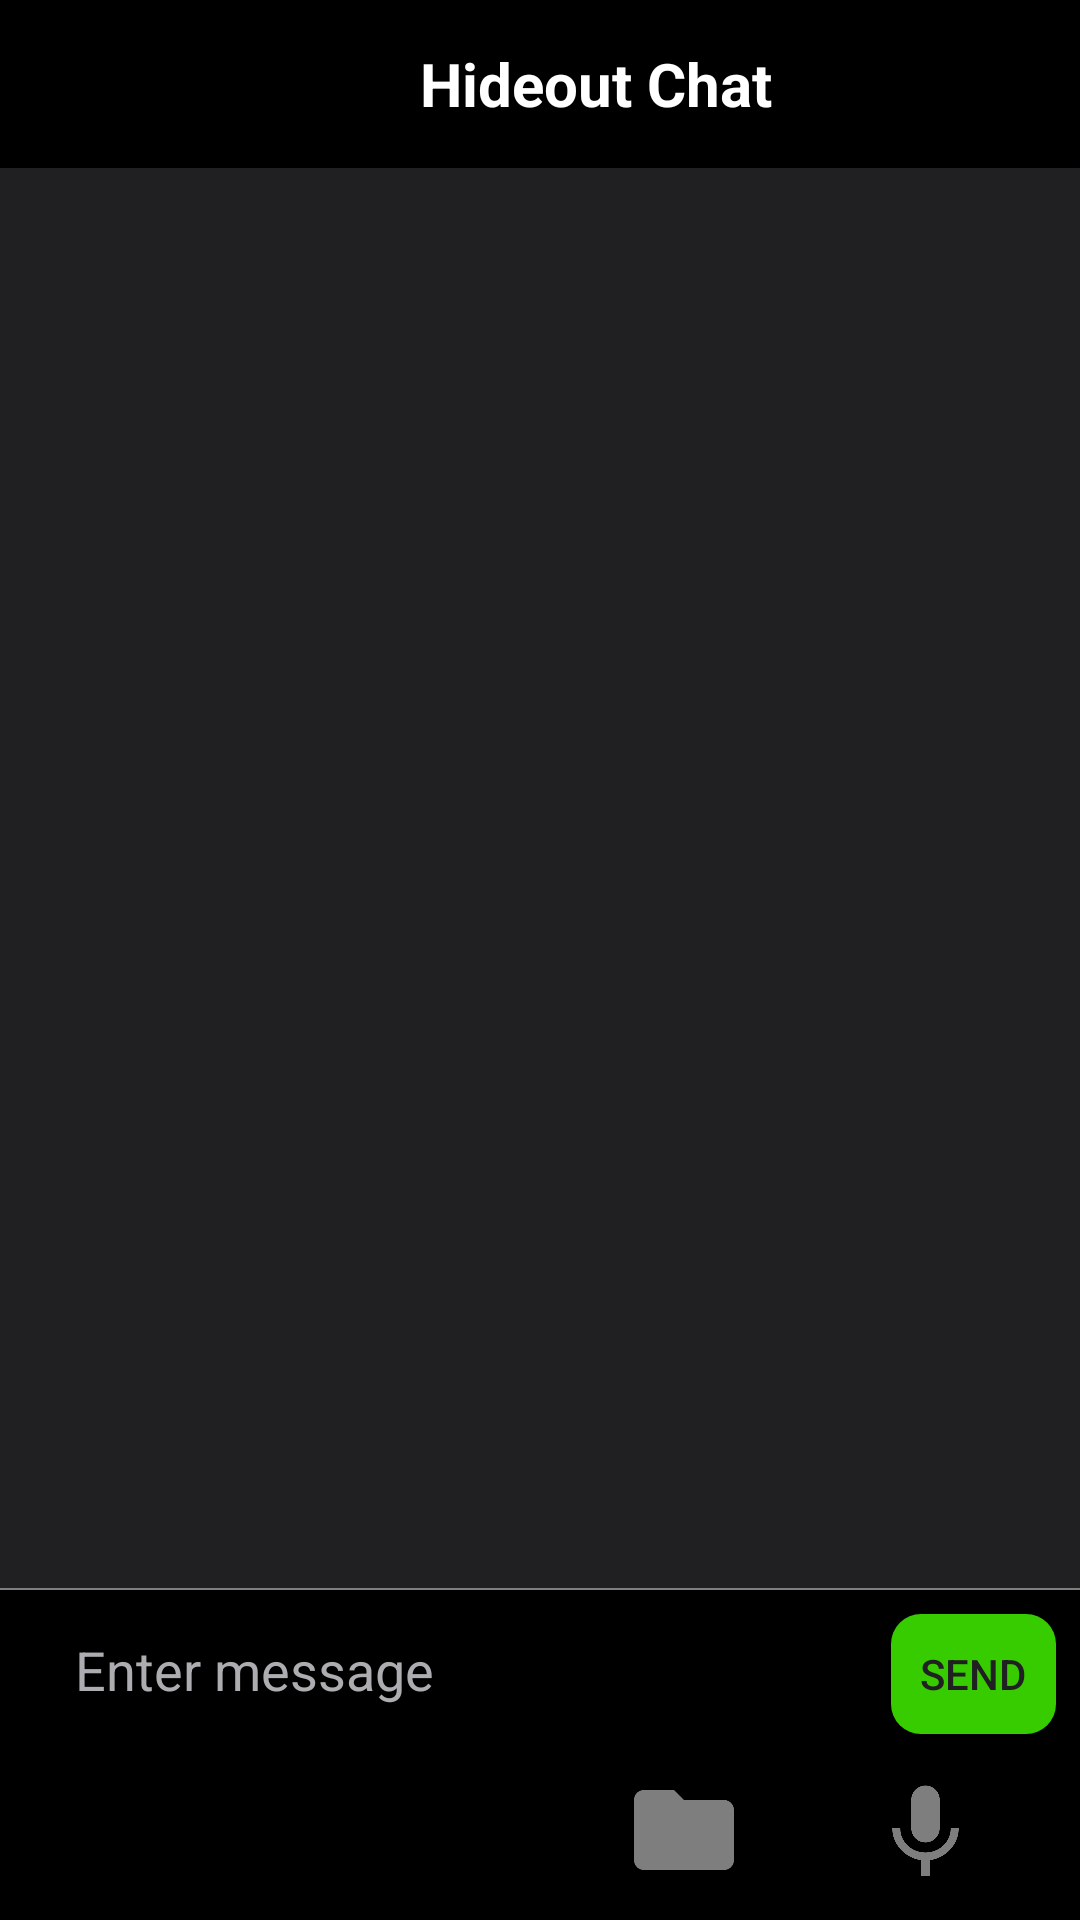

Icons on this 1080×1920 Android screen, each with its box as bbox(x1, y1, x2, y2):
mic: bbox(892, 1785, 959, 1876)
